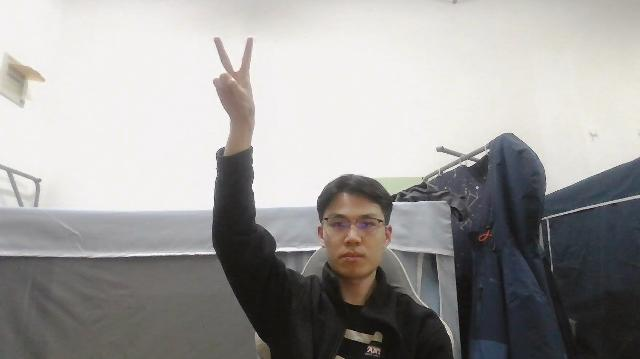two: (212, 33, 257, 121)
